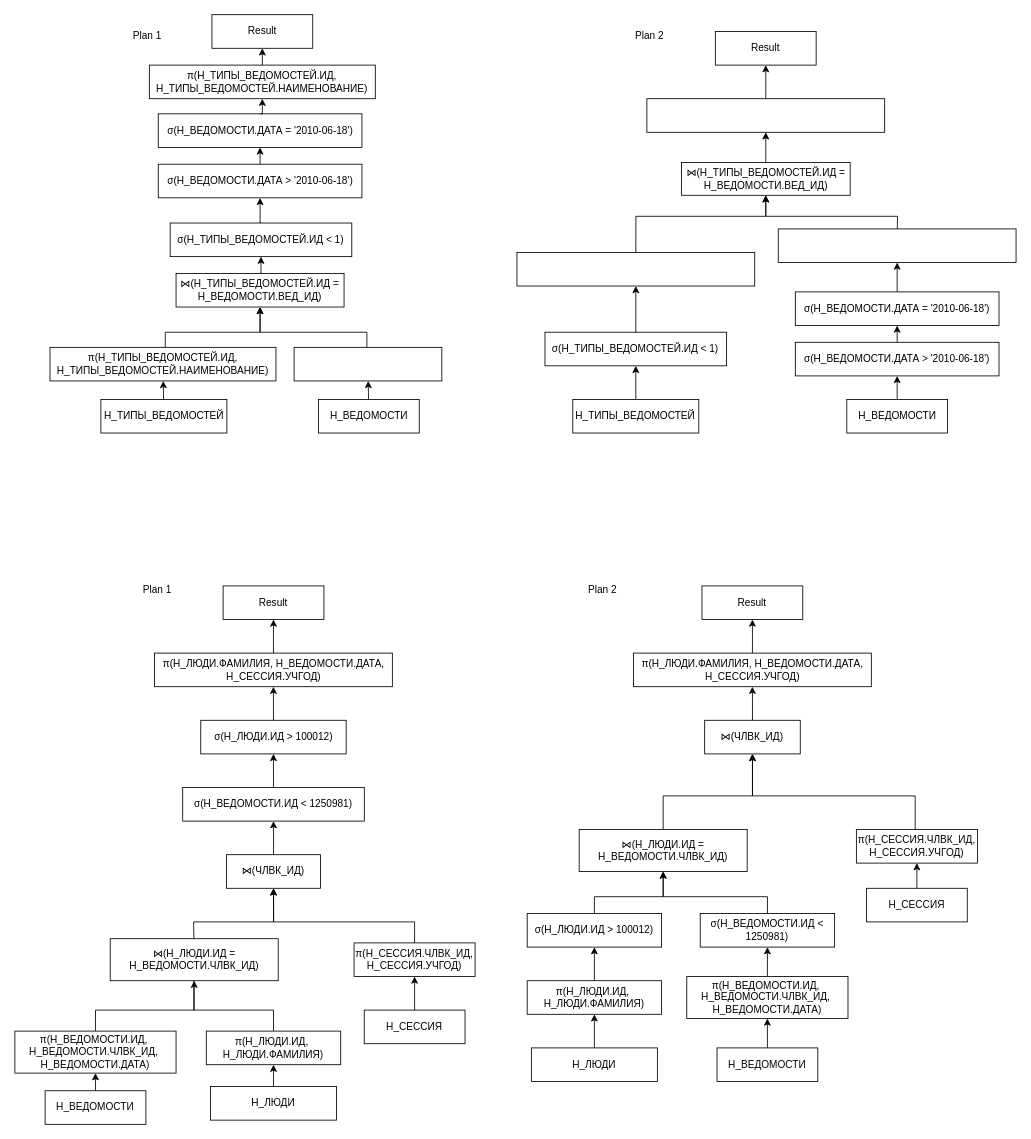
This 1031x1139 diagram has some shape labels left out. The shapes that lost their labels are listed below. From the top down, each one's centre as x and y in pixels, then its label:
pixel 765 115: π(Н_ТИПЫ_ВЕДОМОСТЕЙ.НАИМЕНОВАНИЕ, Н_ВЕДОМОСТИ.ИД)
pixel 896 245: π(Н_ВЕДОМОСТИ.ИД, Н_ВЕДОМОСТИ.ВЕД_ИД )
pixel 635 269: π(Н_ТИПЫ_ВЕДОМОСТЕЙ.ИД, Н_ТИПЫ_ВЕДОМОСТЕЙ.НАИМЕНОВАНИЕ )
pixel 367 363: π( Н_ВЕДОМОСТИ.ВЕД_ИД, Н_ВЕДОМОСТИ.ДАТА)
